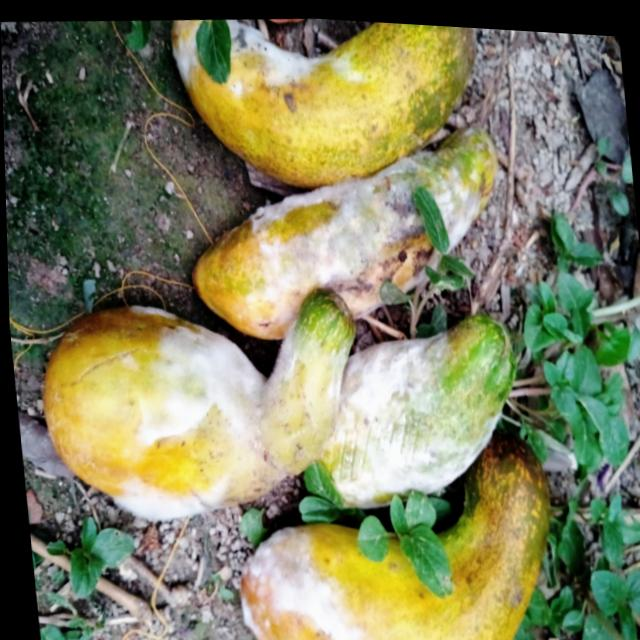Pythium-Fruit-Rot: (88, 278, 313, 531), (237, 122, 495, 339), (306, 314, 507, 508), (228, 510, 363, 640), (168, 9, 327, 107)
